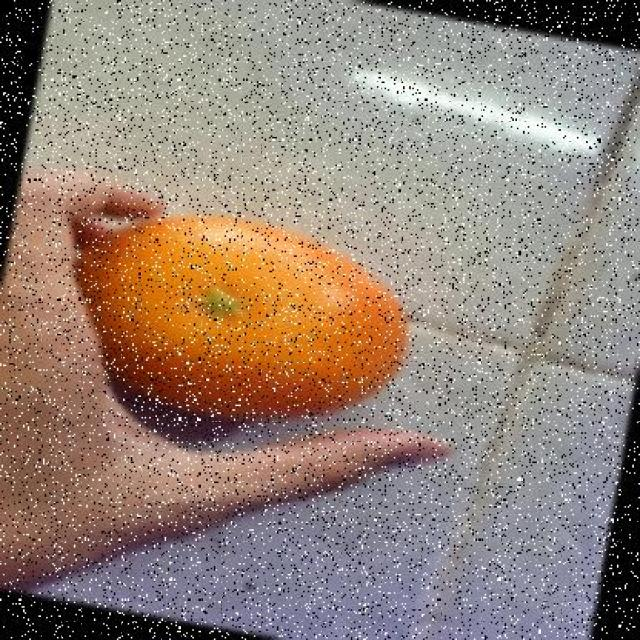Orange: (72, 208, 412, 424)
